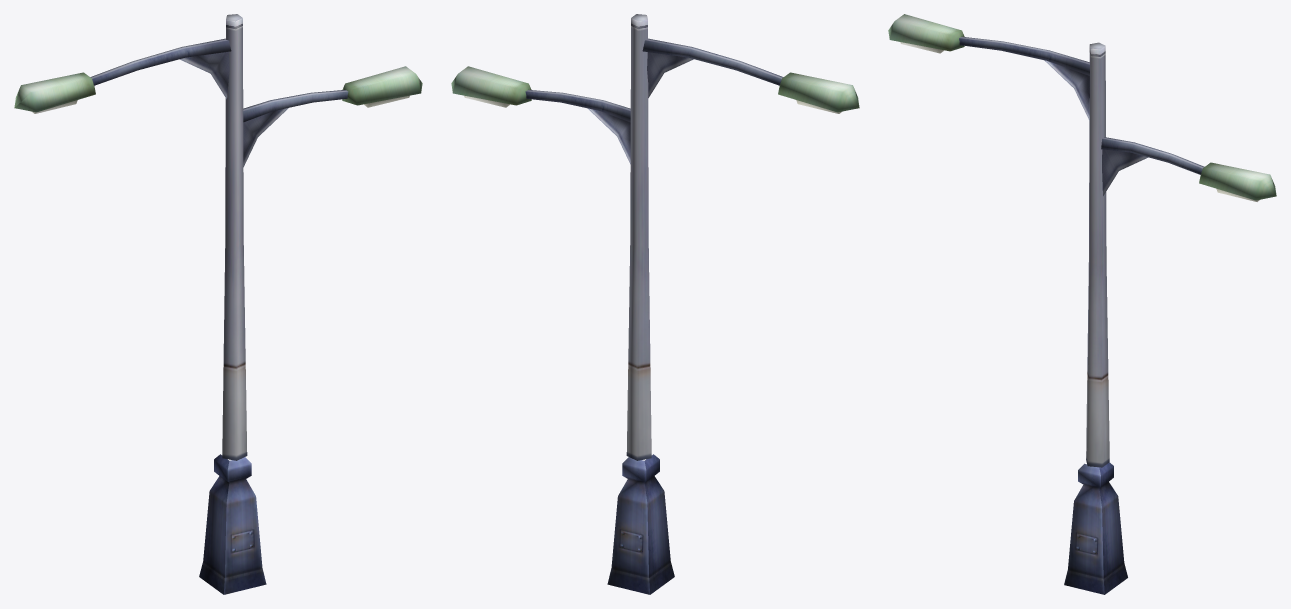
Rendered from a_SElamp02.glb.
3 renders of one model, left to right at view 1: azimuth 30°, elevation 25°; view 2: azimuth 150°, elevation 25°; view 3: azimuth 330°, elevation 25°, orthographic. The views are drawn at different scales.
Parts seen in each view (by area): view 1: a_SElamp02; view 2: a_SElamp02; view 3: a_SElamp02.
Boxes of the visible parts, x1,y1,x2,y2 form: a_SElamp02: [14, 14, 422, 594]; a_SElamp02: [451, 14, 859, 594]; a_SElamp02: [888, 14, 1276, 594].
Bounding box in the file's own units: 3.33 × 4.39 × 0.3495.
Materials: 1 (1 with a texture image).
